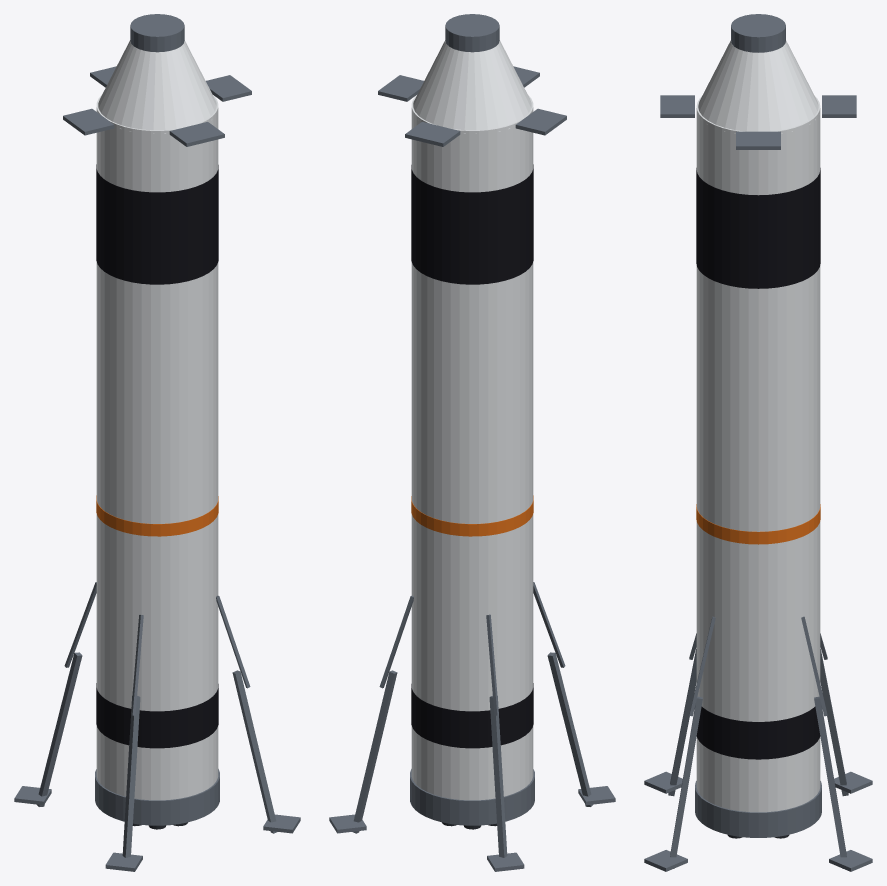
The model's file is rocket_booster.glb.
3 views of the same model, side by side, from view 1: azimuth 30°, elevation 25°; view 2: azimuth 150°, elevation 25°; view 3: azimuth 270°, elevation 25° (orthographic).
Parts seen in each view (by area): view 1: tank, band, inter, bandlow, leg, skirt, gridfin, cap, logo, pad, strut; view 2: tank, band, inter, bandlow, leg, skirt, gridfin, cap, logo, pad, strut; view 3: tank, band, inter, bandlow, leg, skirt, gridfin, pad, cap, logo, strut.
Boxes of the visible parts, x1,y1,x2,y2 form: tank: (96, 95, 218, 800); band: (96, 164, 218, 284); inter: (97, 40, 216, 133); bandlow: (96, 683, 218, 748); leg: (37, 652, 277, 857); skirt: (95, 769, 219, 825); gridfin: (63, 66, 251, 146); cap: (130, 14, 184, 52); logo: (96, 495, 218, 536); pad: (14, 786, 300, 871); strut: (64, 582, 250, 715); tank: (411, 95, 533, 800); band: (411, 164, 533, 284); inter: (413, 40, 532, 133); bandlow: (411, 683, 533, 748); leg: (352, 652, 592, 857); skirt: (410, 769, 534, 825); gridfin: (378, 66, 566, 146); cap: (445, 14, 499, 52); logo: (411, 495, 533, 536); pad: (329, 786, 615, 871); strut: (379, 582, 565, 715); tank: (696, 96, 820, 812); band: (696, 168, 820, 288); inter: (698, 40, 818, 133); bandlow: (696, 706, 820, 759); leg: (668, 647, 848, 868); skirt: (695, 781, 821, 837); gridfin: (660, 95, 856, 149); pad: (644, 771, 872, 871); cap: (731, 14, 785, 52); logo: (696, 504, 820, 544); strut: (689, 616, 827, 716).
Bounding box in the file's own units: 6.65 × 25.86 × 6.65.
